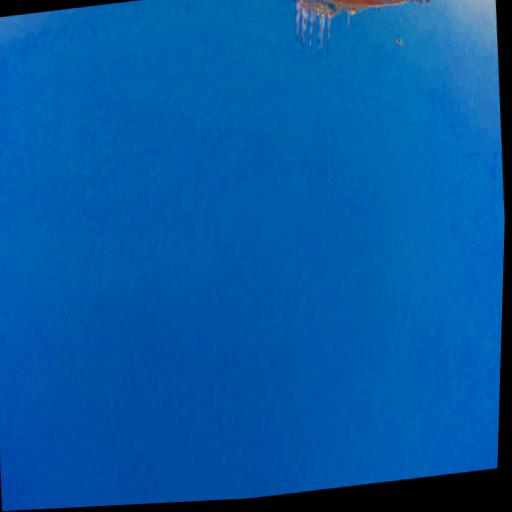drones: (394, 35, 405, 47)
